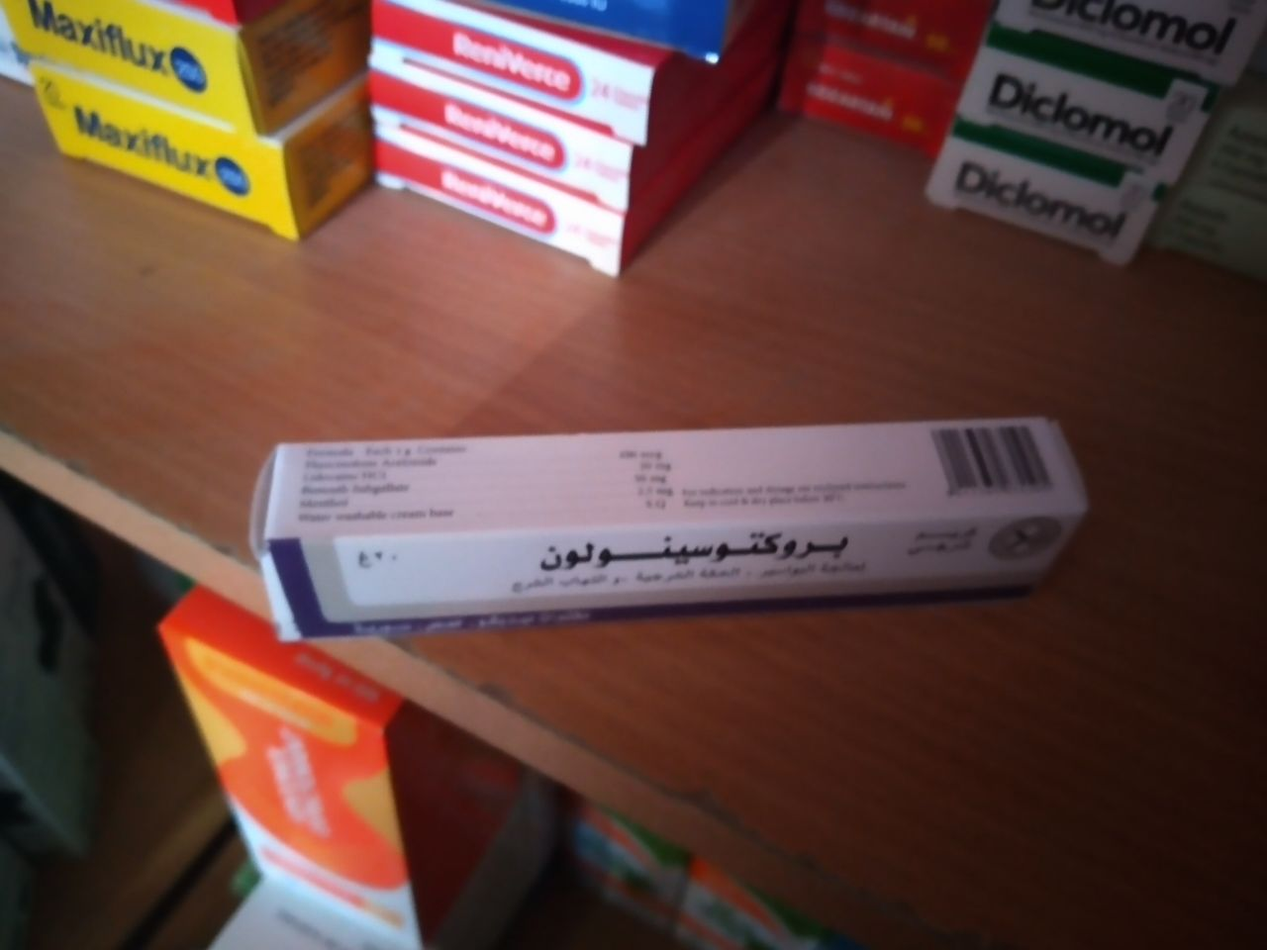Medicine: (252, 403, 1084, 663)
